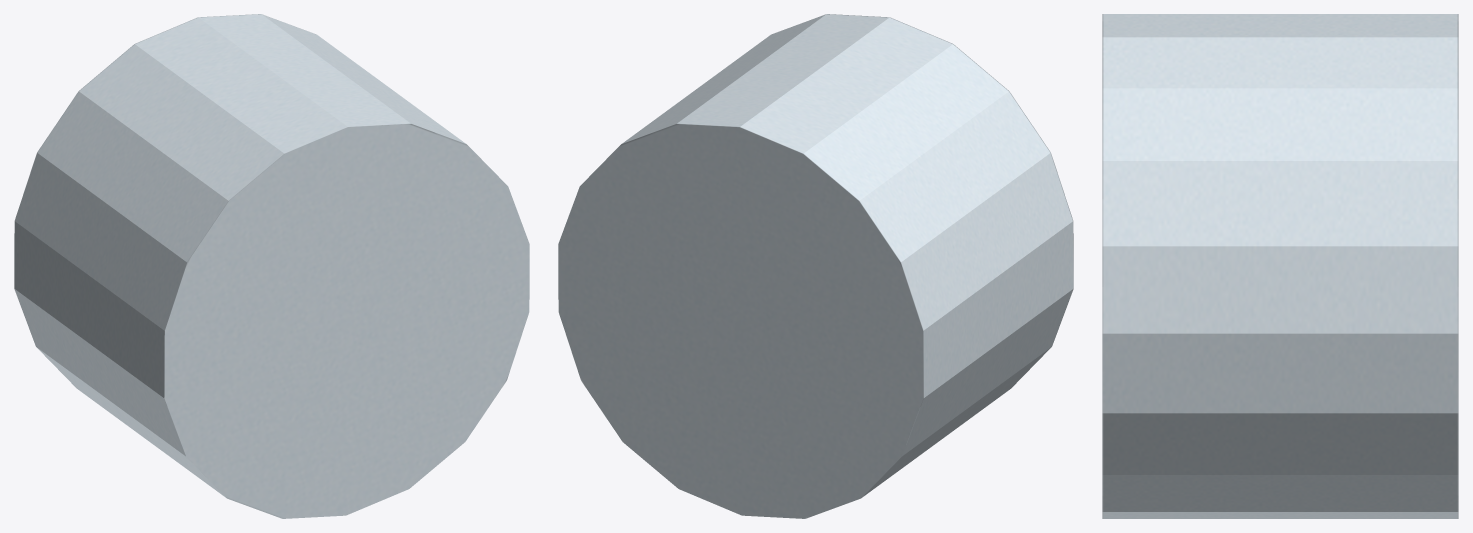
File: zbq-11m00000000632457-geode.glb
3 renders of one model, left to right at view 1: azimuth 30°, elevation 25°; view 2: azimuth 150°, elevation 25°; view 3: azimuth 270°, elevation 25°, orthographic. The views are drawn at different scales.
Parts seen in each view (by area): view 1: Node; view 2: Node; view 3: Node.
Boxes of the visible parts, <box> form: Node: <box>14,14,529,518</box>; Node: <box>558,14,1073,518</box>; Node: <box>1102,14,1458,518</box>.
Bounding box in the file's own units: 1.51 × 1.54 × 1.08.
Materials: 1 (1 with a texture image).
